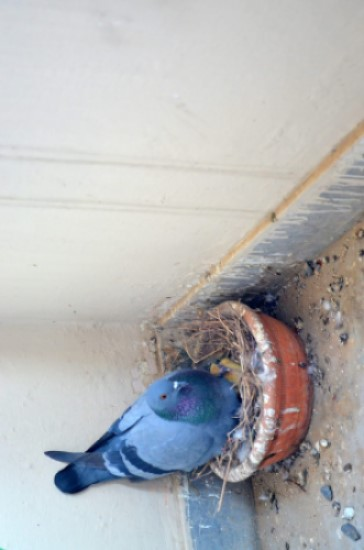pigeon: (39, 366, 240, 496)
